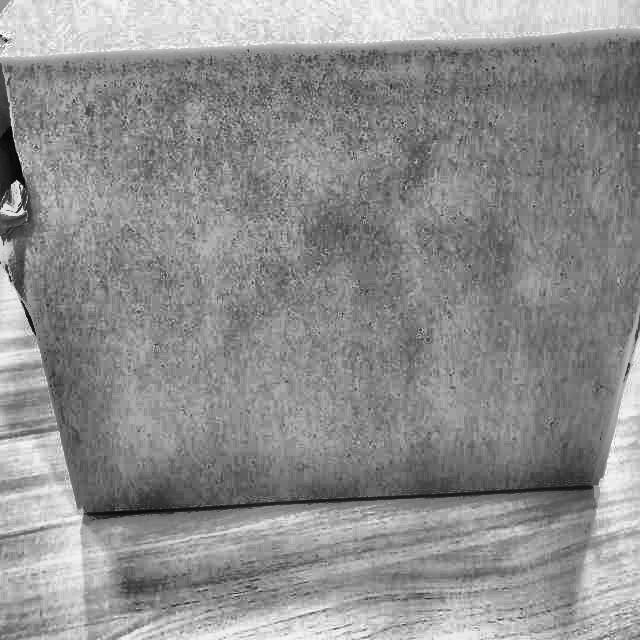box: (0, 0, 639, 523)
hole: (0, 71, 48, 245)
